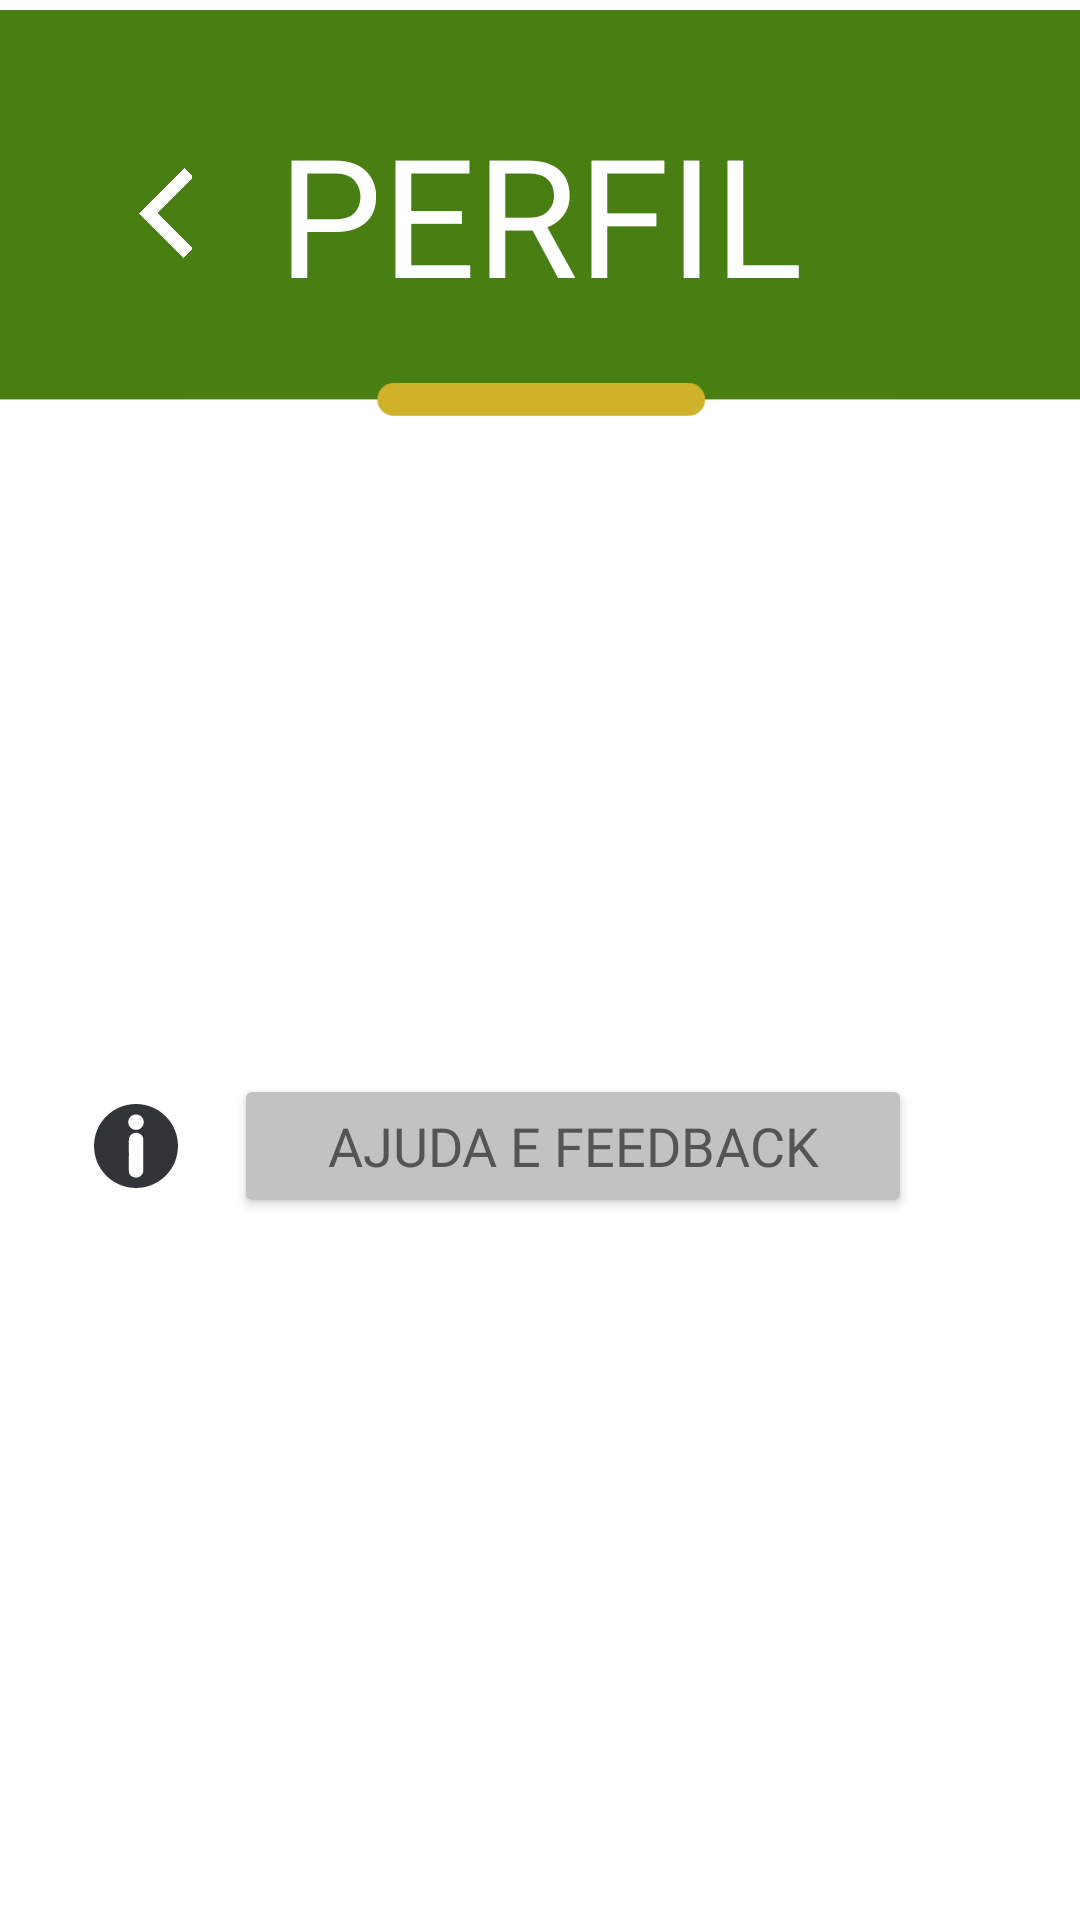

Screen size 1080px×1920px. Icon name, then its center in pixels as (x,y):
ajuda pg: (136,1146)
seta branca pg: (165,213)
